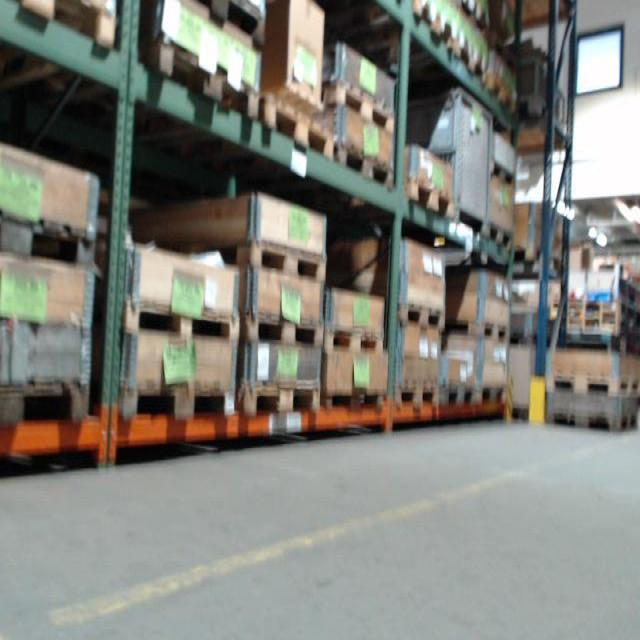pallet: (150, 33, 260, 123), (0, 210, 98, 275), (123, 297, 241, 345), (256, 96, 335, 162), (16, 0, 117, 51), (116, 383, 236, 425), (214, 241, 328, 285), (321, 78, 396, 138), (0, 381, 91, 424), (239, 311, 325, 350), (233, 379, 321, 416), (201, 0, 268, 48), (334, 140, 395, 189), (546, 371, 639, 399), (544, 409, 638, 435), (405, 180, 456, 222), (323, 325, 383, 358), (447, 318, 510, 343), (441, 385, 510, 407), (323, 388, 385, 412), (398, 301, 448, 330), (486, 75, 517, 114), (392, 381, 439, 406), (485, 225, 512, 248), (492, 160, 516, 184)
stillage: (392, 87, 498, 247)
